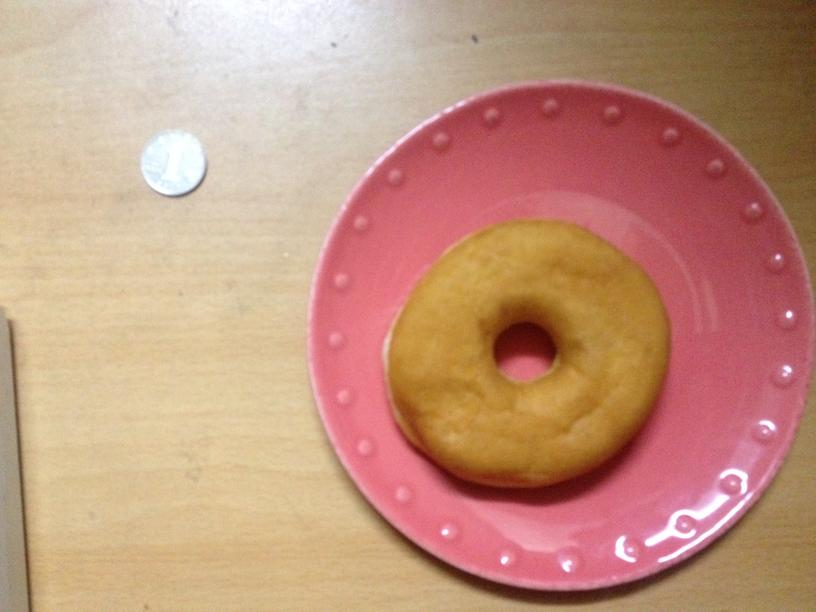coin: (137, 129, 205, 195)
doughnut: (379, 220, 669, 491)
